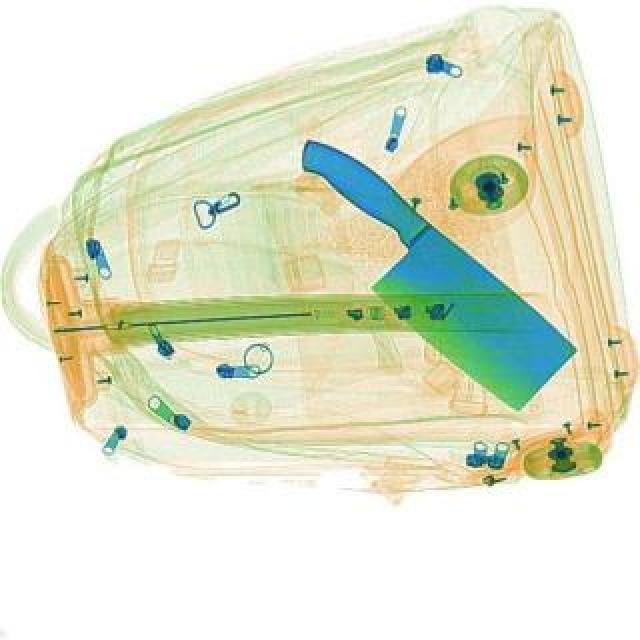knife: (248, 122, 586, 416)
